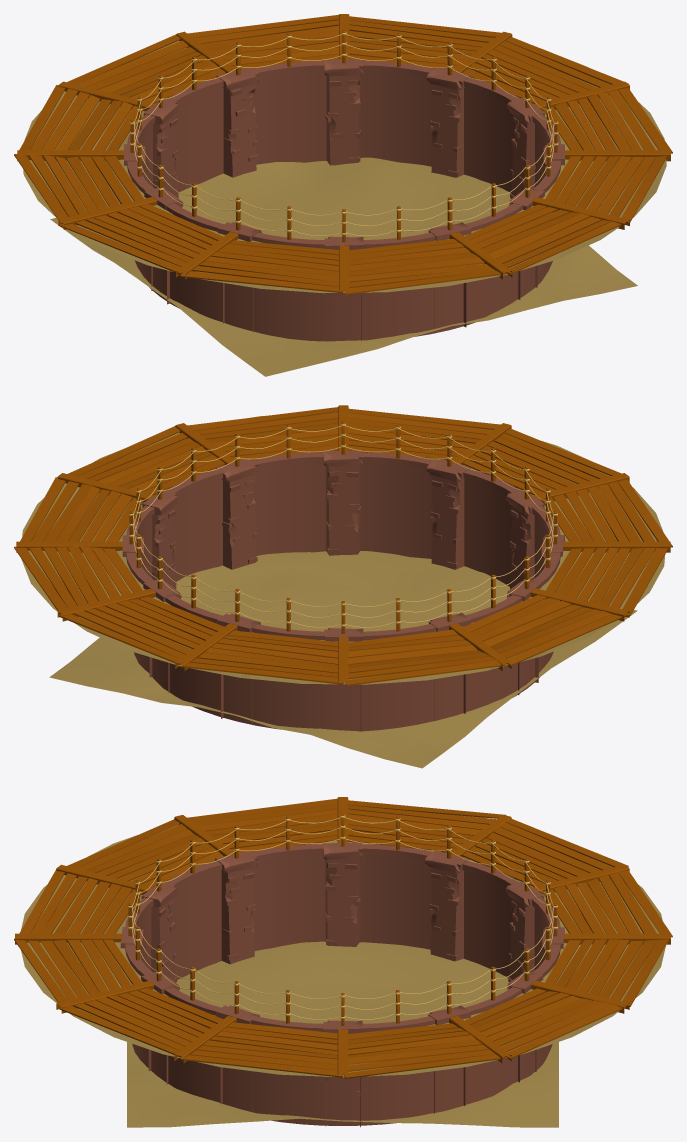
File: arena.glb
The picture shows the model from 3 angles, top to bottom: view 1: azimuth 30°, elevation 25°; view 2: azimuth 150°, elevation 25°; view 3: azimuth 270°, elevation 25°; orthographic projection.
Parts seen in each view (by area): view 1: arena; view 2: arena; view 3: arena.
Boxes of the visible parts, x1,y1,x2,y2 form: arena: (14, 14, 672, 376); arena: (14, 405, 672, 768); arena: (14, 797, 672, 1127).
Size of the model in its own units: 26.15 by 5.9 by 26.02.
